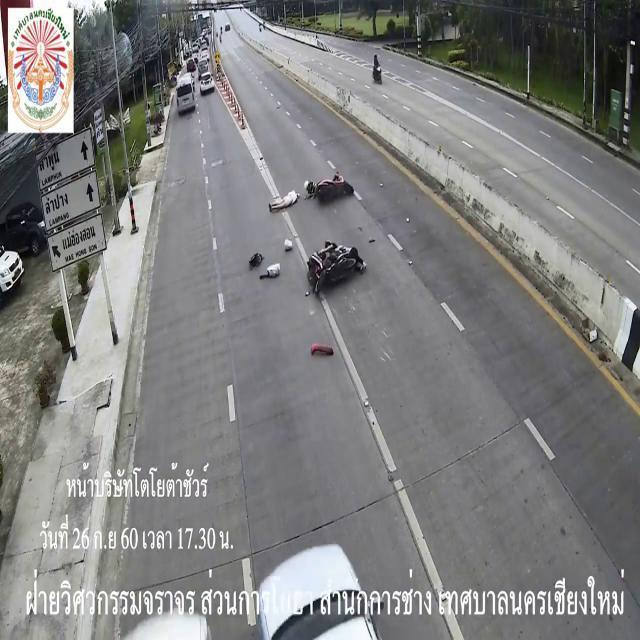accident: (248, 170, 376, 300)
non-accident: (177, 72, 216, 116), (197, 59, 216, 96), (187, 58, 209, 72)
